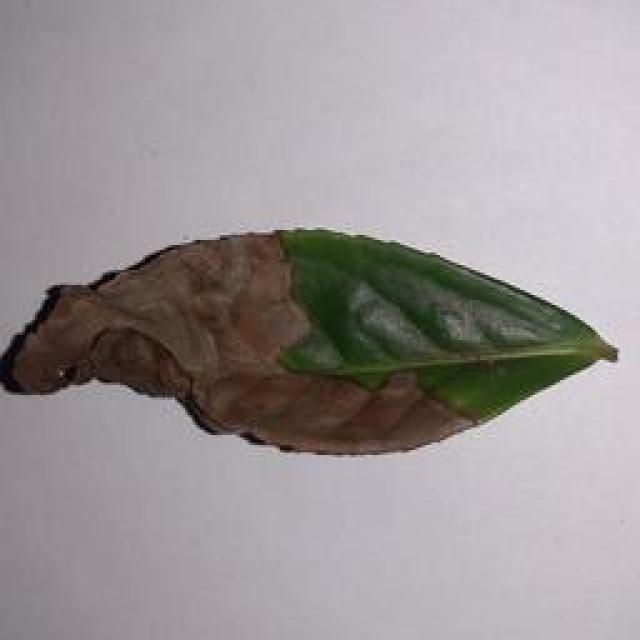Brown Blight: (6, 220, 624, 456)
